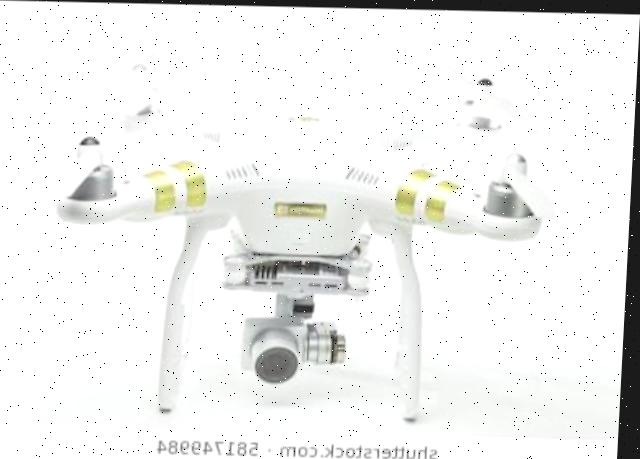drone: (35, 35, 583, 434)
